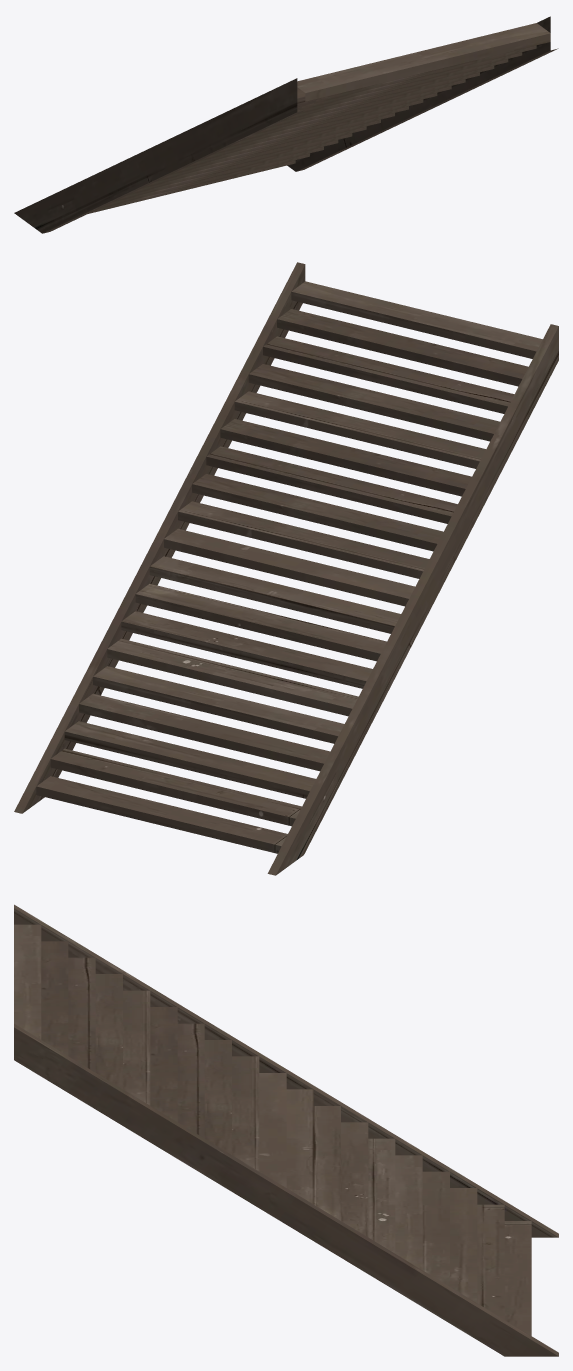
The picture shows the model from 3 angles, top to bottom: view 1: azimuth 30°, elevation 25°; view 2: azimuth 150°, elevation 25°; view 3: azimuth 270°, elevation 25°; orthographic projection. The views are drawn at different scales.
Visible parts, largest first — view 1: body0_model0_lod0_mesh0; view 2: body0_model0_lod0_mesh0; view 3: body0_model0_lod0_mesh0.
Part boxes in pixels (x1,y1,x2,y2): body0_model0_lod0_mesh0: [14, 16, 558, 233]; body0_model0_lod0_mesh0: [14, 262, 558, 875]; body0_model0_lod0_mesh0: [14, 904, 558, 1356].
Bounding box in the file's own units: 128 × 160 × 240.
Materials: 1 (1 with a texture image).
